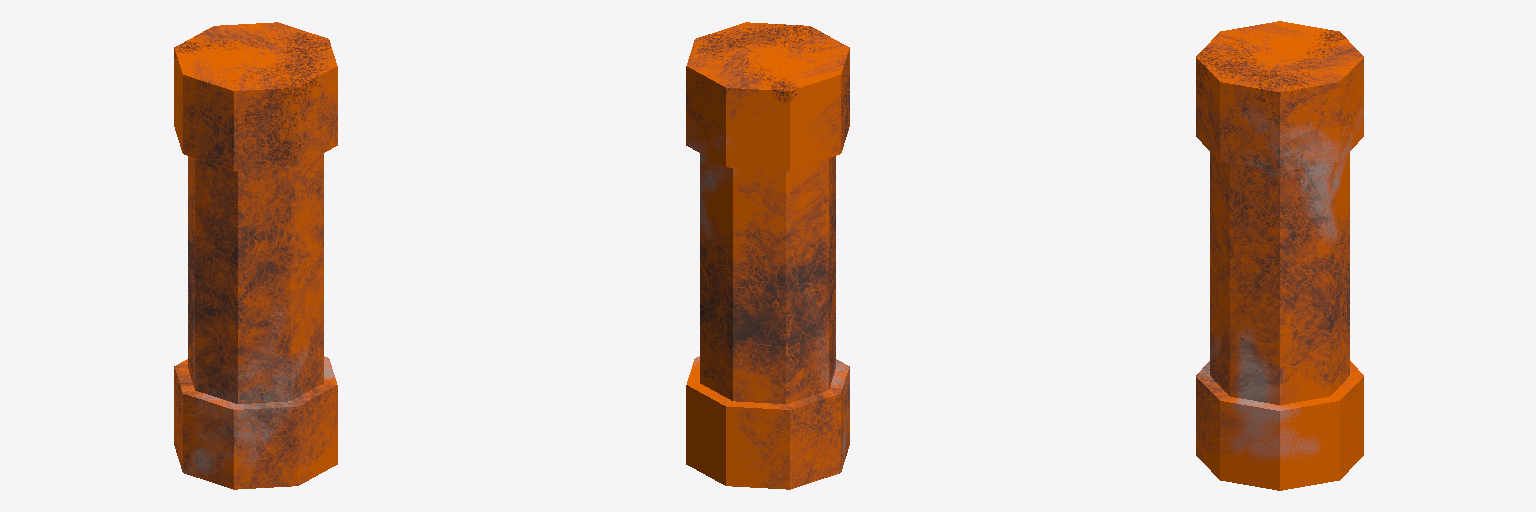
3 views of the same model, side by side, from view 1: azimuth 30°, elevation 25°; view 2: azimuth 150°, elevation 25°; view 3: azimuth 270°, elevation 25° (orthographic).
Visible parts, largest first — view 1: Cylinder.002_Cylinder.006_Cylinder.002_Cylinder.006; view 2: Cylinder.002_Cylinder.006_Cylinder.002_Cylinder.006; view 3: Cylinder.002_Cylinder.006_Cylinder.002_Cylinder.006.
Part boxes in pixels (bbox=[...]): Cylinder.002_Cylinder.006_Cylinder.002_Cylinder.006: bbox=[174, 22, 337, 489]; Cylinder.002_Cylinder.006_Cylinder.002_Cylinder.006: bbox=[686, 22, 849, 489]; Cylinder.002_Cylinder.006_Cylinder.002_Cylinder.006: bbox=[1196, 21, 1363, 490].
Size of the model in its own units: 0.192 by 0.5 by 0.192.
1 materials, 1 textured.